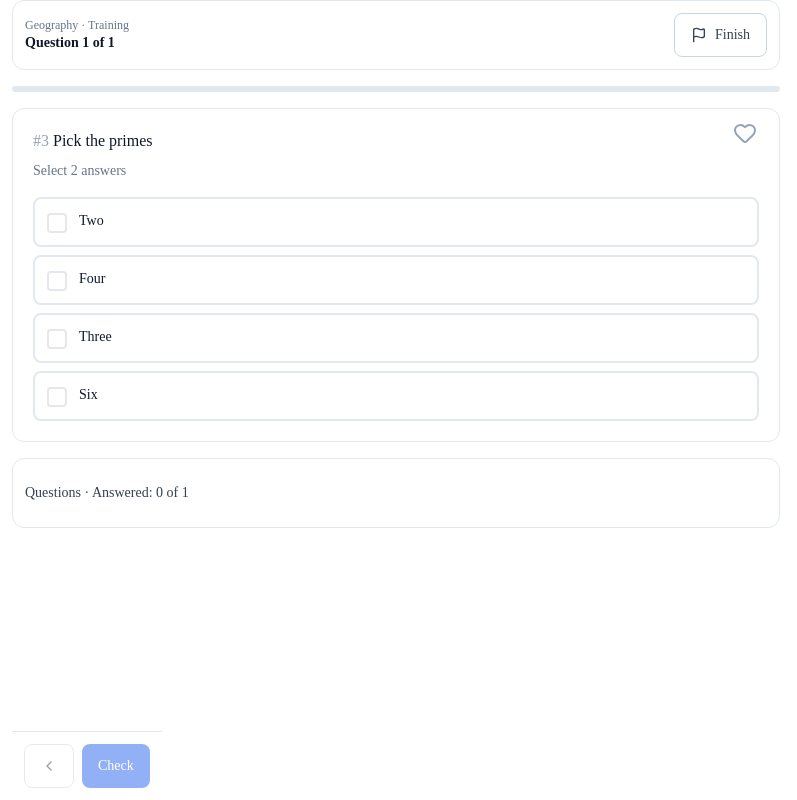
Test: training › for a multiple-choice question one right option is not enough
Click the checkbox labelled "Two" at (57, 223), box [33,197,759,247]
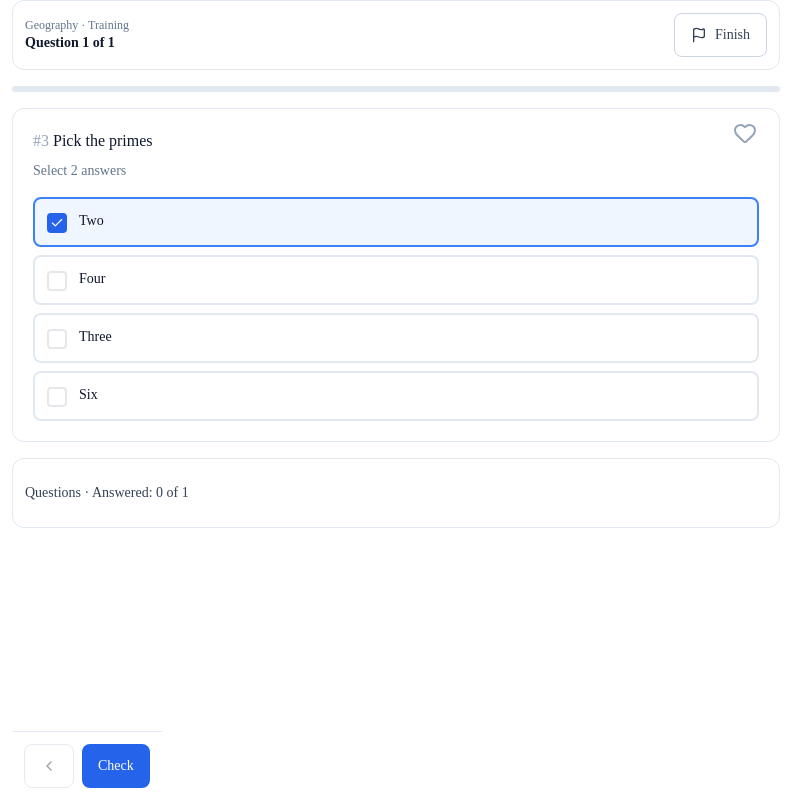
Click the button "Check" at (116, 766), box [82,744,150,788]
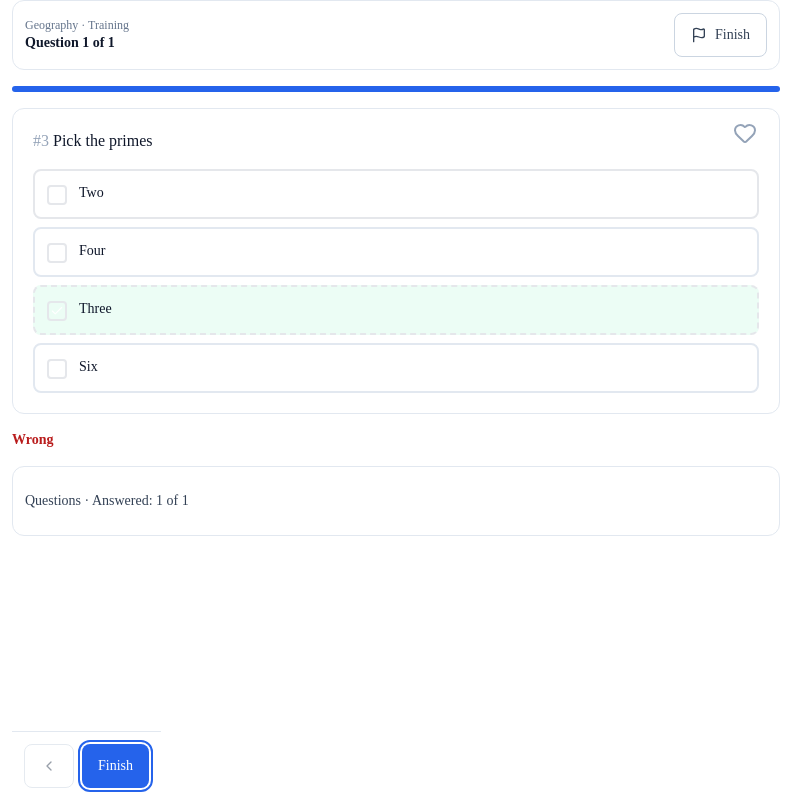
Check: the message reads "Wrong", box [12,432,54,447]
